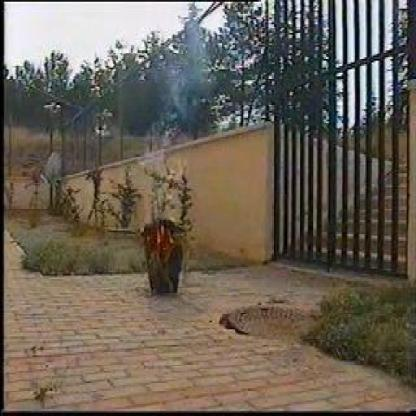-: (161, 57, 194, 130)
foggia-v2-map80-epoch100 - v1 4323: (154, 221, 176, 250)
